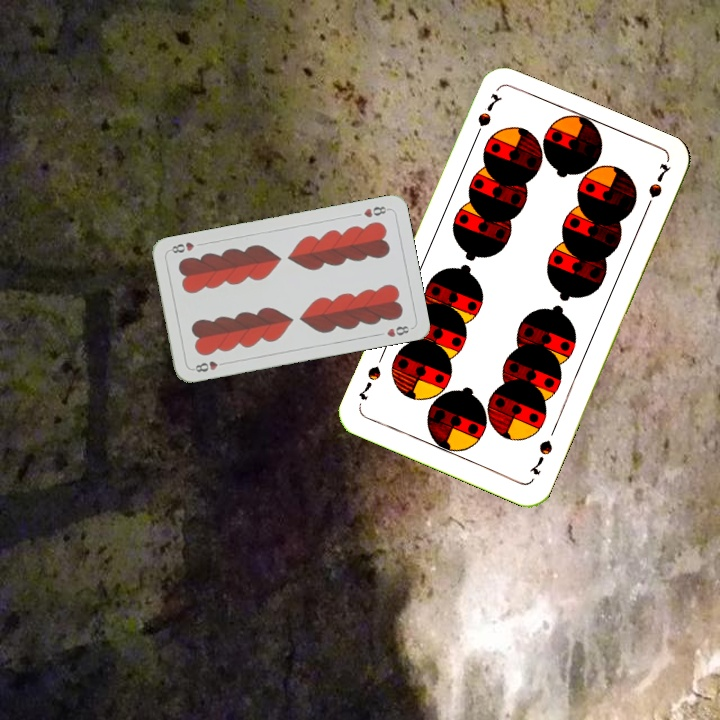H8: (189, 357, 229, 375), (360, 202, 392, 220)
S7: (470, 89, 505, 143), (525, 435, 555, 478)
